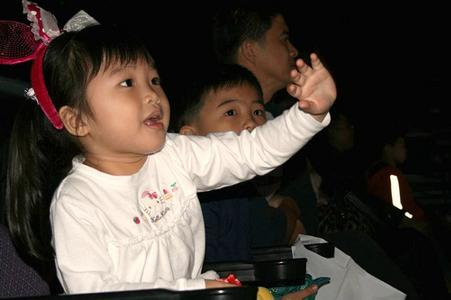person: (1, 28, 337, 300)
